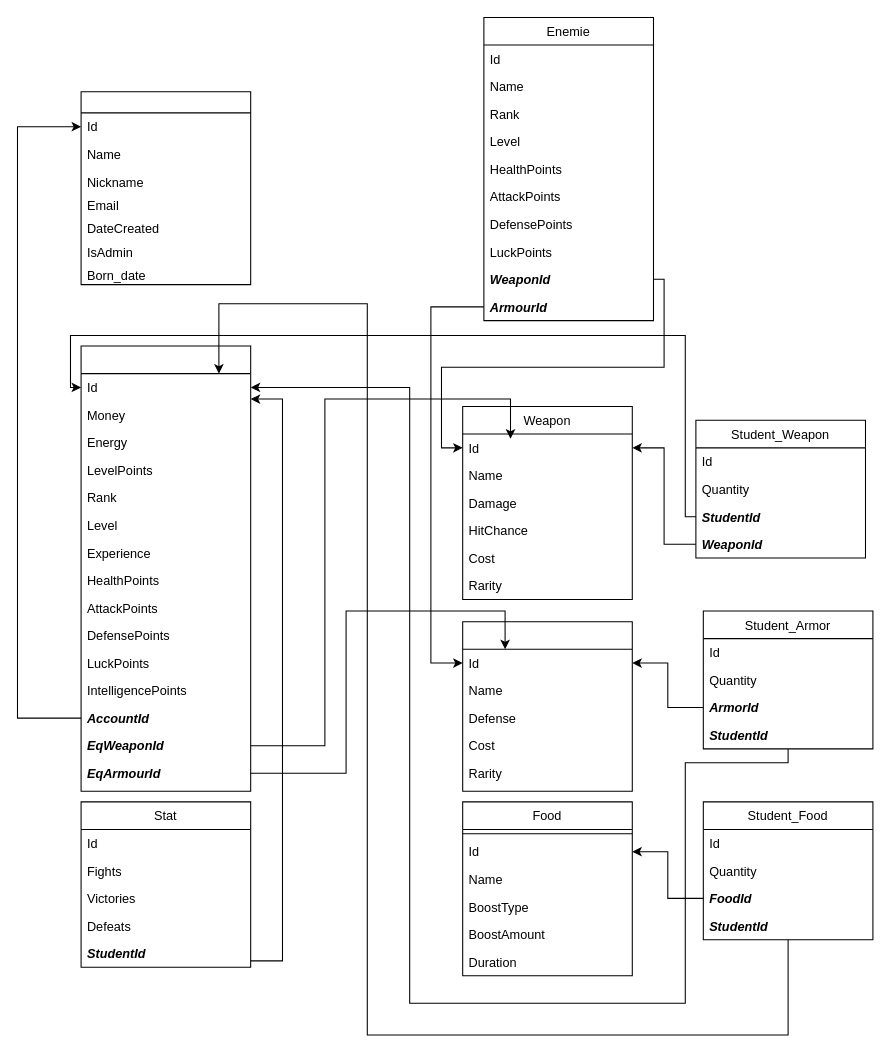
Image size: 890x1053. Some labels were removed from this diagram. Each missing label, with the box of its shape:
Account: (80, 91, 251, 285)
Armour: (462, 621, 632, 791)
Student: (80, 345, 251, 791)
